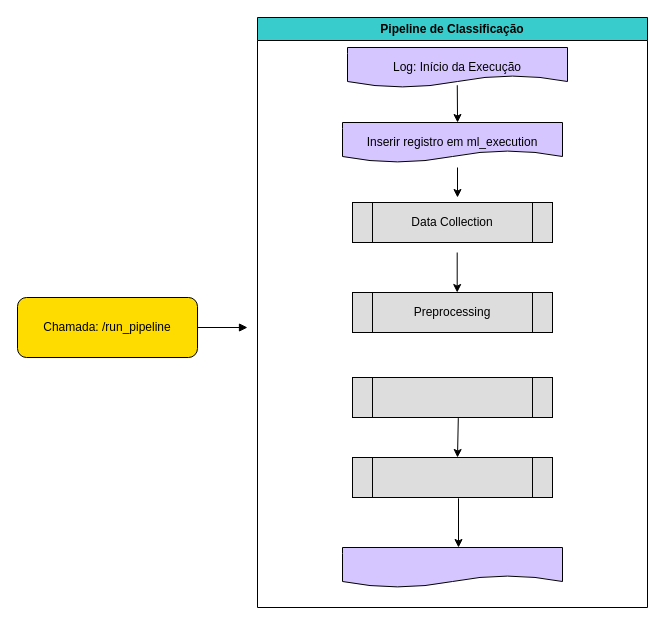
Image size: 665x625. Some labels were removed from this diagram. Here are the shapes that lost their labels. From the top down, the box of each, then its label:
(352, 376, 552, 418): Geração de Embeddings
(352, 456, 552, 498): Classificação (SVM/XGBoost)
(342, 546, 562, 588): Log: Execução Finalizada
